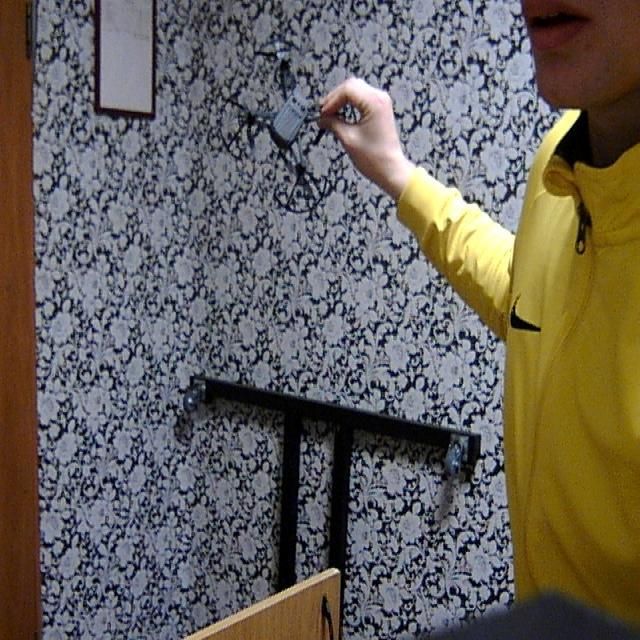drones: (216, 33, 350, 183)
